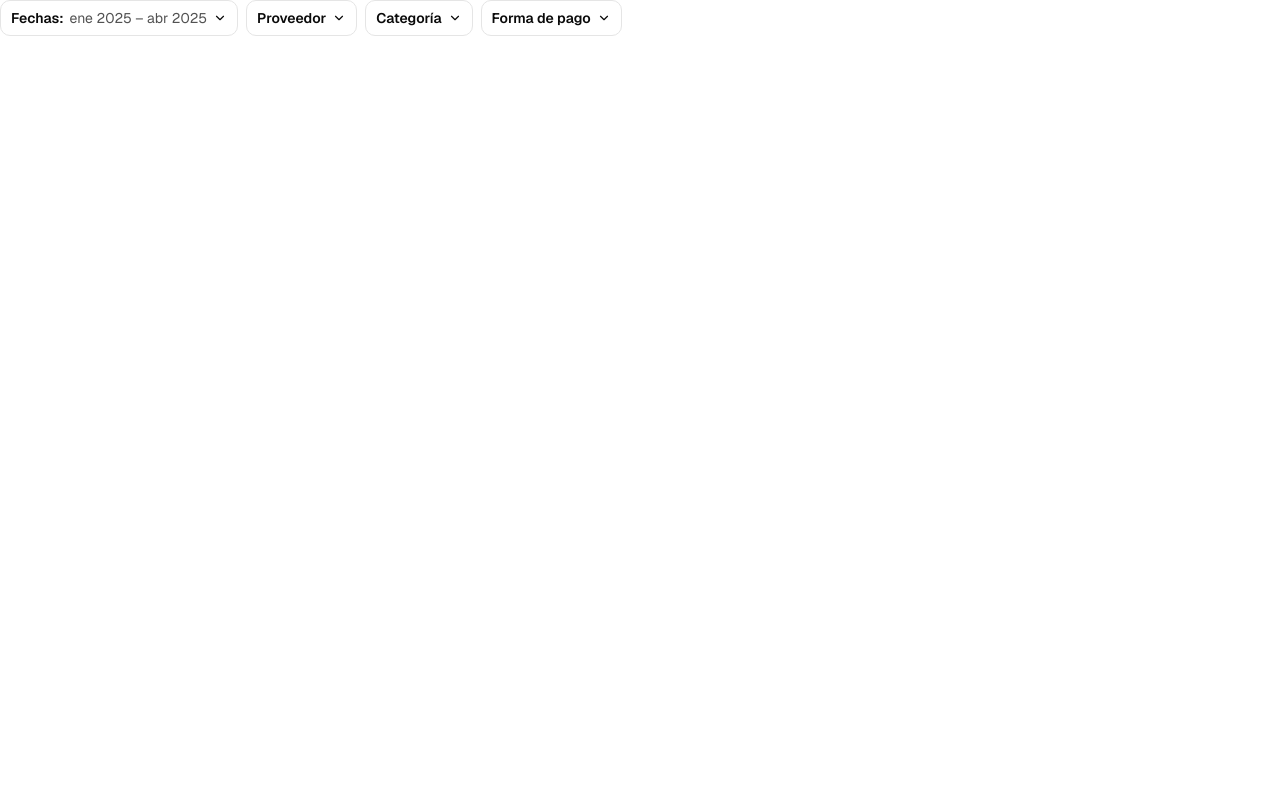
Test: FilterBar category filter (FILT-03, D-15, D-28) › uses a 320 px popover
Click the button "Categoría".
click(419, 18)  # box x1=365 y1=0 x2=473 y2=36
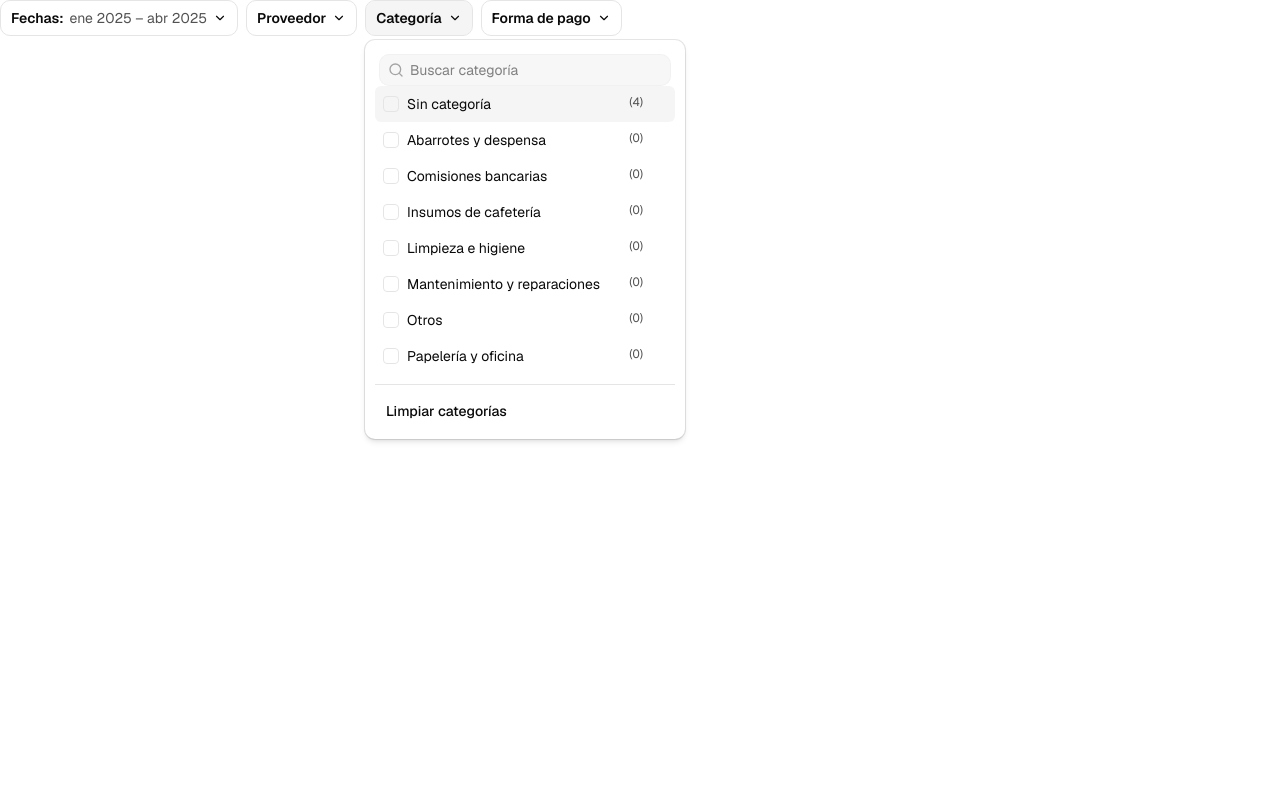
Expected: the dialog with placeholder "Buscar categoría" is shown, x1=365 y1=40 x2=685 y2=439
